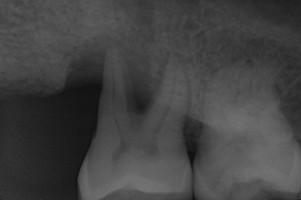Dental Caries: (63, 32, 154, 114)
